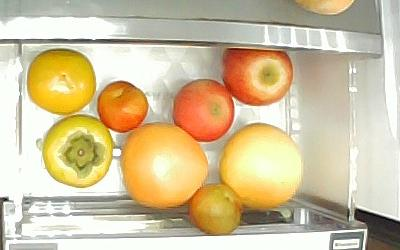apple: (220, 46, 294, 106), (172, 78, 234, 142)
grapefruit: (118, 120, 209, 208), (217, 121, 303, 209)
persimmon: (41, 114, 113, 188), (26, 47, 96, 114)
prune: (187, 181, 244, 234), (96, 79, 149, 132)
